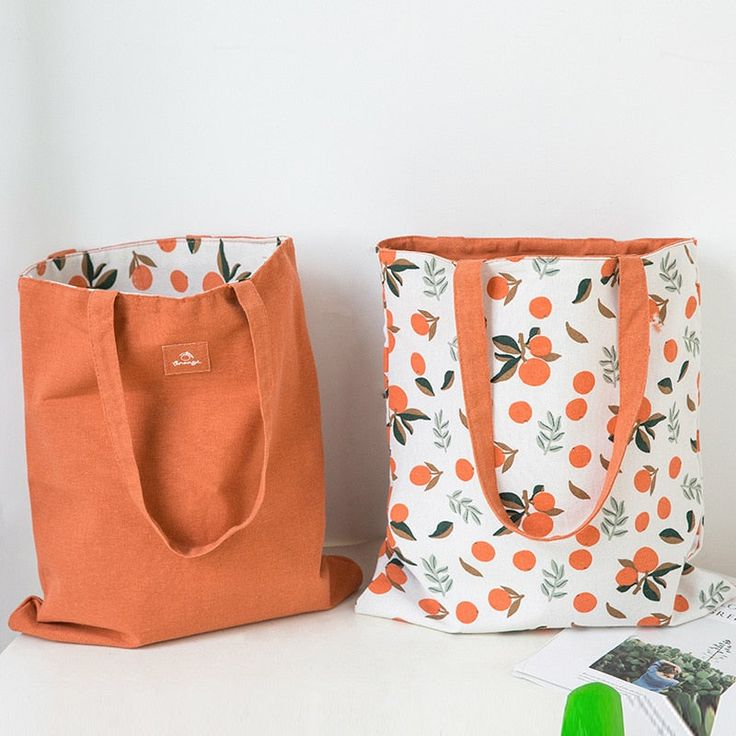nylon: (8, 236, 736, 650)
